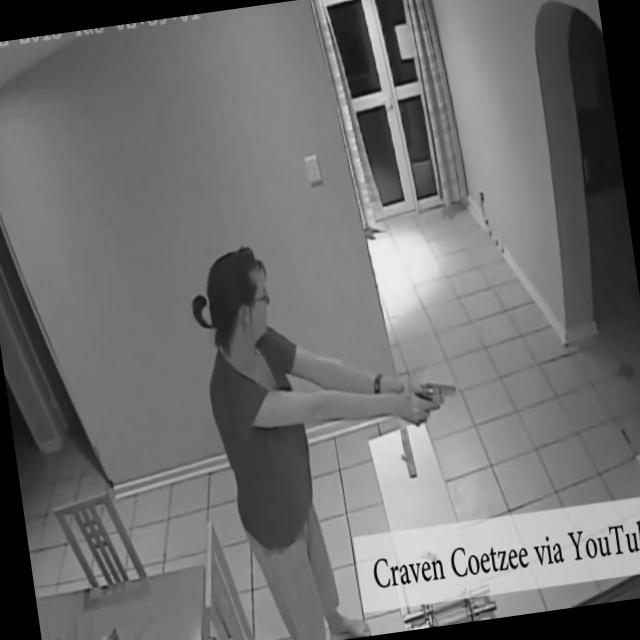gun: (392, 364, 462, 431)
person with a gun: (182, 214, 478, 560)
